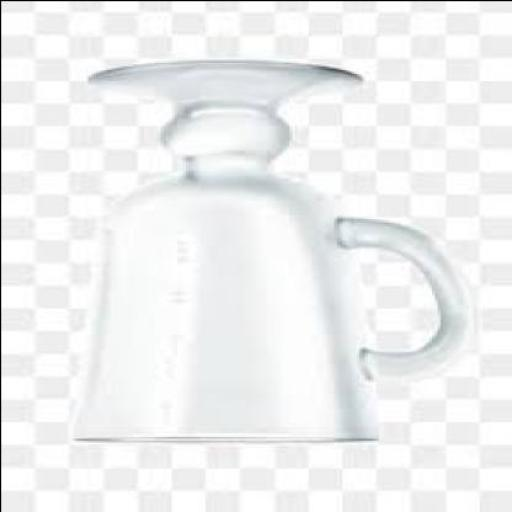glass: (76, 67, 470, 445)
